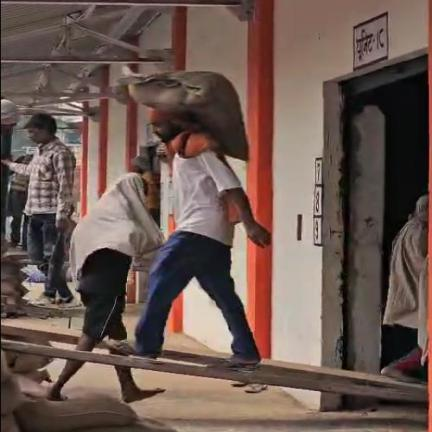Zone-Counting: (120, 68, 270, 369)
